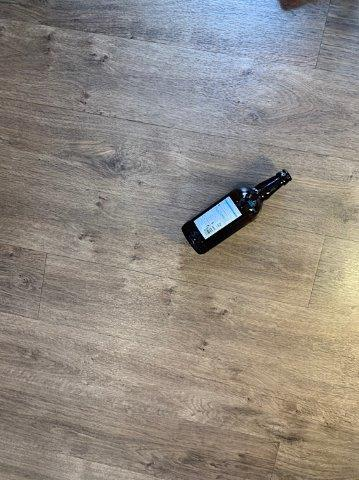botolkaca: (183, 170, 293, 254)
